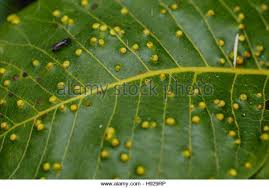Diseased_Leaves: (130, 106, 250, 177), (49, 6, 141, 65), (209, 4, 266, 68), (12, 92, 86, 119), (38, 154, 71, 179), (105, 128, 113, 138), (150, 54, 160, 62)
